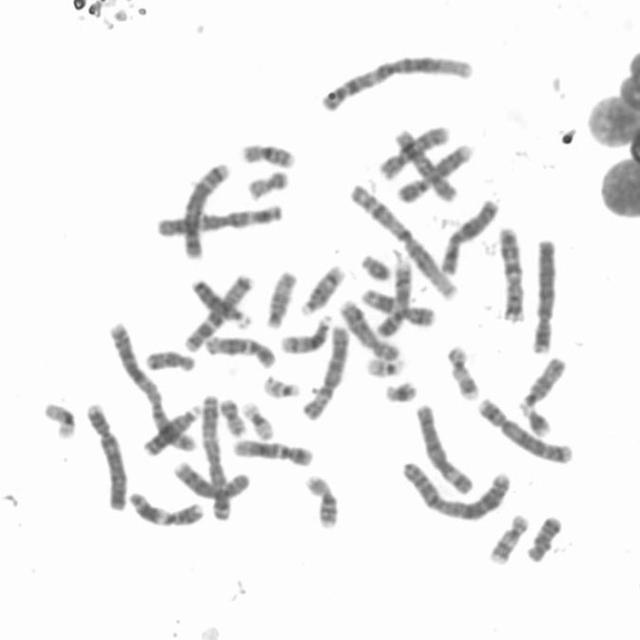A1: (348, 183, 459, 301), (319, 54, 472, 114)
A2: (108, 321, 200, 453), (398, 456, 512, 520)
A3: (153, 201, 283, 239), (201, 394, 232, 522)
B4: (85, 403, 130, 513), (531, 240, 558, 355)
B5: (478, 398, 574, 464), (181, 160, 230, 264)
C10: (392, 129, 459, 203), (378, 125, 449, 181)
C11: (126, 488, 204, 529), (360, 288, 436, 328)
C12: (204, 334, 277, 370), (232, 439, 314, 468)
C6: (414, 405, 476, 495), (301, 325, 349, 422)
C7: (182, 272, 255, 354), (494, 225, 528, 323)
C8: (338, 299, 400, 361), (173, 460, 251, 500)
C9: (396, 144, 474, 204), (374, 259, 412, 339)
D13: (142, 403, 204, 458), (189, 279, 252, 331)
D14: (300, 265, 345, 317), (279, 314, 333, 356)
D15: (518, 356, 567, 410), (265, 270, 297, 330)
E16: (302, 470, 344, 529), (240, 141, 296, 170)
E17: (486, 513, 529, 566), (446, 345, 480, 401)
E18: (526, 515, 565, 564), (144, 348, 197, 374)
F19: (240, 401, 276, 442), (42, 402, 78, 439)
F20: (242, 168, 291, 202), (219, 396, 248, 438)
G21: (519, 404, 552, 440), (384, 380, 418, 405)
G22: (260, 374, 304, 400), (367, 356, 405, 378)
X: (438, 197, 498, 275)
Y: (360, 254, 393, 284)
